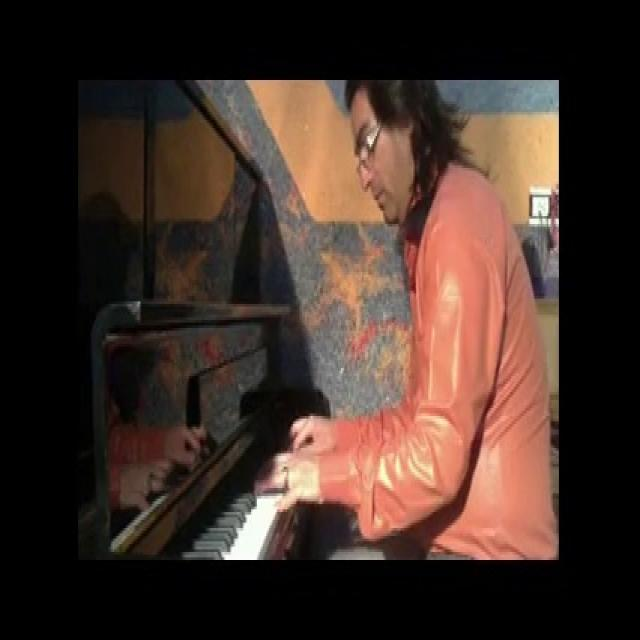Piano: (159, 431, 306, 560)
